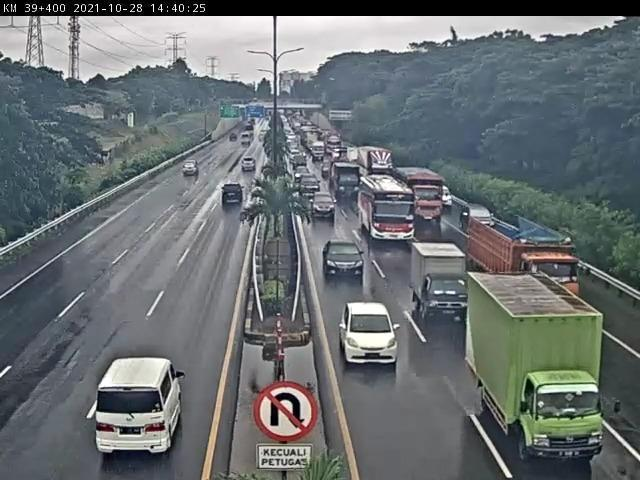bus: (359, 174, 416, 244)
car: (94, 360, 184, 455), (341, 304, 398, 362), (323, 239, 368, 279), (464, 206, 499, 229), (311, 192, 337, 216), (220, 184, 247, 207), (299, 176, 321, 194), (240, 157, 259, 173), (183, 161, 200, 177)
truck: (467, 274, 608, 460), (470, 217, 581, 307), (414, 243, 469, 319), (398, 165, 446, 222), (333, 162, 362, 197)
